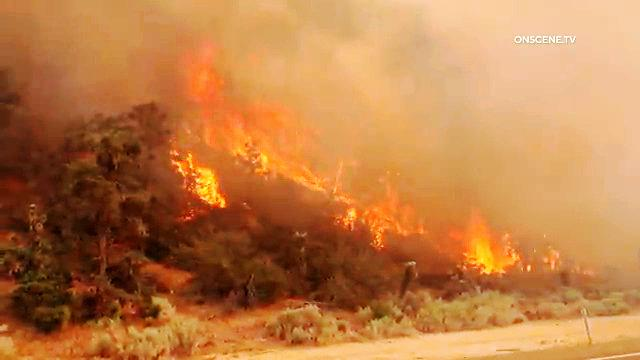fire: (234, 122, 378, 222), (120, 120, 202, 215), (433, 217, 537, 276), (188, 84, 251, 167)
smoke: (386, 50, 640, 188), (129, 9, 490, 88)
